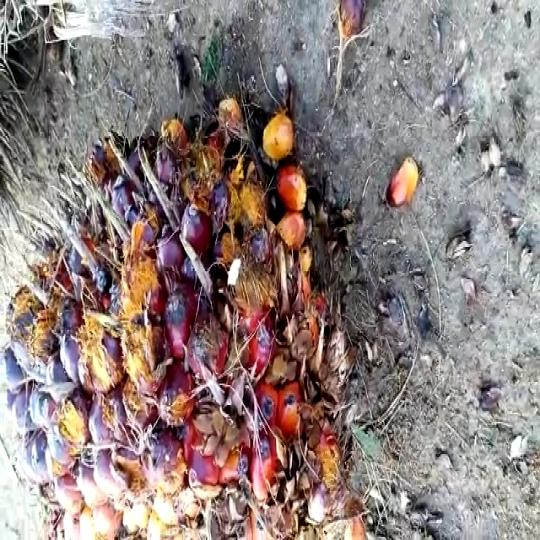masak: (12, 126, 362, 540)
